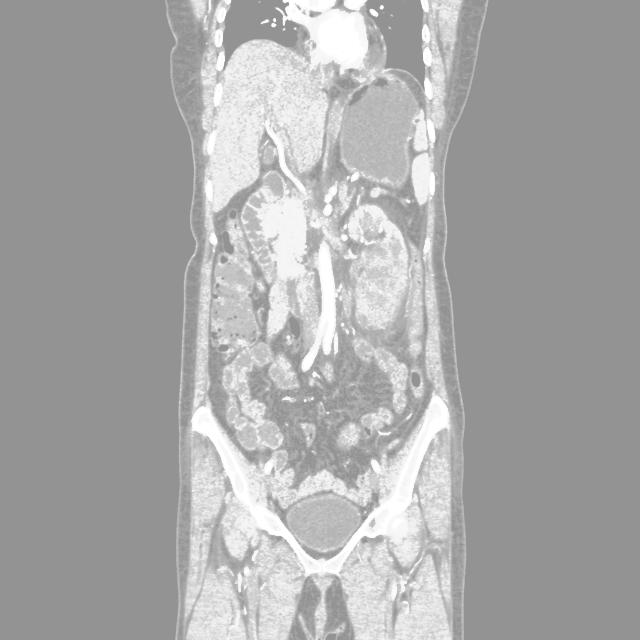TUMOR: (155, 239, 489, 427)
